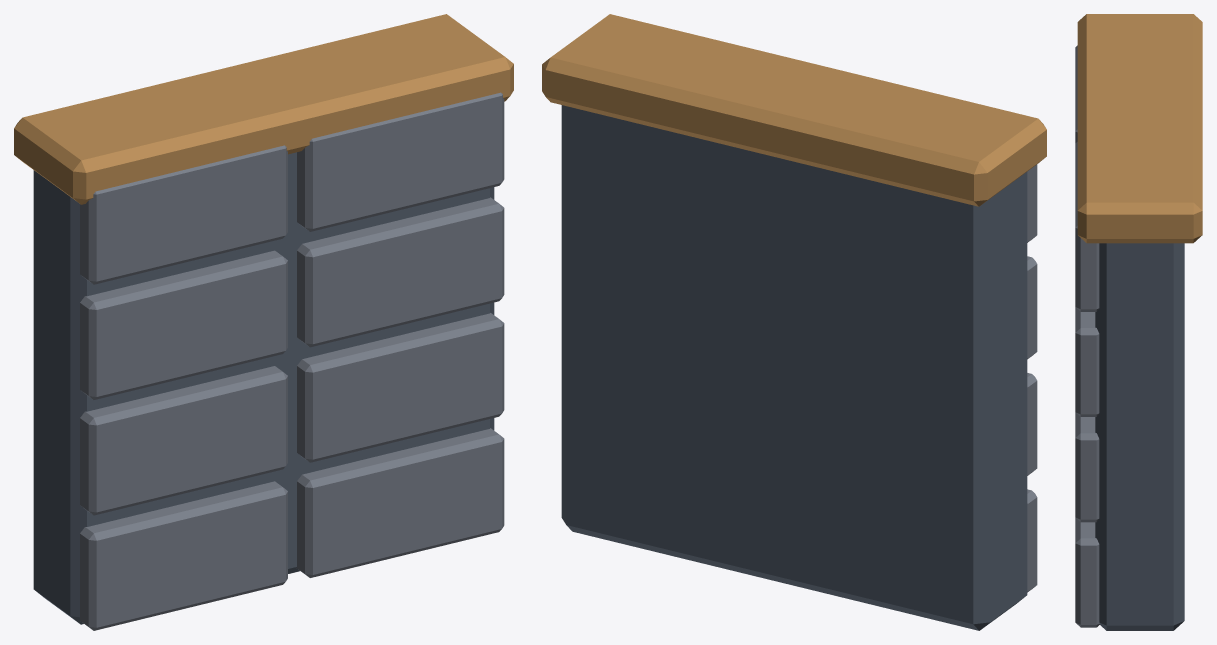
Rendered from wall-bronze.fbx.
3 views of the same model, side by side, from view 1: azimuth 30°, elevation 25°; view 2: azimuth 150°, elevation 25°; view 3: azimuth 270°, elevation 25° (orthographic). The views are drawn at different scales.
Visible parts, largest first — view 1: top cornice, wall body, masonry.002, masonry, masonry.004, masonry.003, masonry.001, masonry.005, masonry.007, masonry.006; view 2: wall body, top cornice, masonry.004, masonry.002, masonry, masonry.006; view 3: wall body, top cornice, masonry.001, masonry.003, masonry.005, masonry.007, masonry.006.
Boxes of the visible parts, x1=… form: top cornice: x1=14, y1=14, x2=513, y2=204; wall body: x1=33, y1=152, x2=494, y2=624; masonry.002: x1=80, y1=366, x2=287, y2=515; masonry: x1=80, y1=481, x2=287, y2=630; masonry.004: x1=80, y1=250, x2=287, y2=399; masonry.003: x1=297, y1=313, x2=504, y2=462; masonry.001: x1=296, y1=428, x2=504, y2=577; masonry.005: x1=297, y1=197, x2=504, y2=347; masonry.007: x1=297, y1=92, x2=504, y2=231; masonry.006: x1=80, y1=145, x2=287, y2=284; wall body: x1=561, y1=105, x2=1027, y2=630; top cornice: x1=542, y1=14, x2=1046, y2=206; masonry.004: x1=1027, y1=256, x2=1037, y2=359; masonry.002: x1=1027, y1=373, x2=1037, y2=475; masonry: x1=1027, y1=489, x2=1037, y2=592; masonry.006: x1=1027, y1=164, x2=1037, y2=242; wall body: x1=1095, y1=243, x2=1184, y2=630; top cornice: x1=1077, y1=14, x2=1202, y2=243; masonry.001: x1=1075, y1=518, x2=1099, y2=627; masonry.003: x1=1075, y1=412, x2=1099, y2=522; masonry.005: x1=1075, y1=307, x2=1099, y2=416; masonry.007: x1=1075, y1=142, x2=1099, y2=311; masonry.006: x1=1075, y1=45, x2=1077, y2=142.
Size of the model in its own units: 104 by 107 by 28.5.
